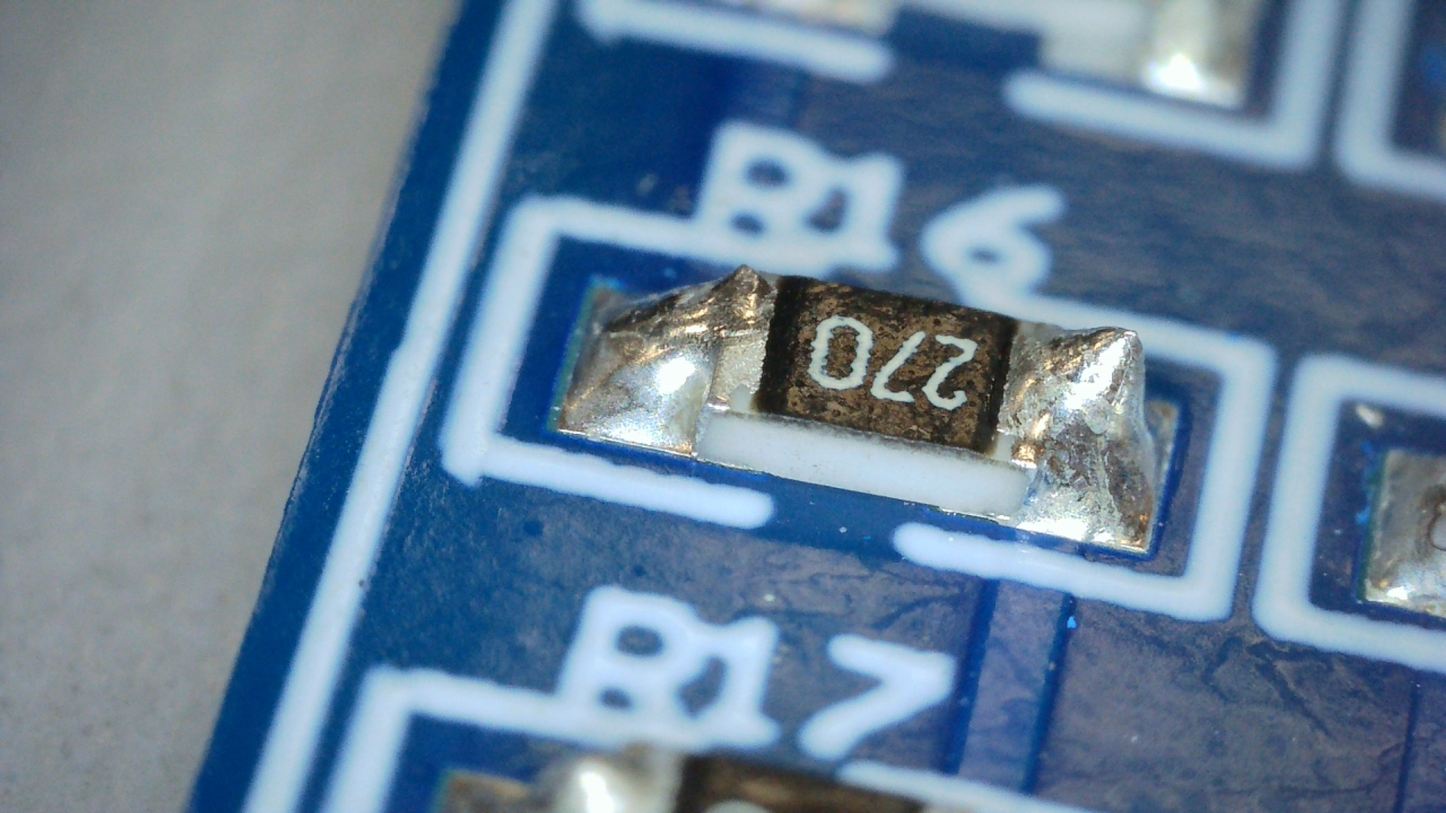NG: (564, 263, 781, 449), (1006, 326, 1156, 545), (714, 263, 775, 335)
